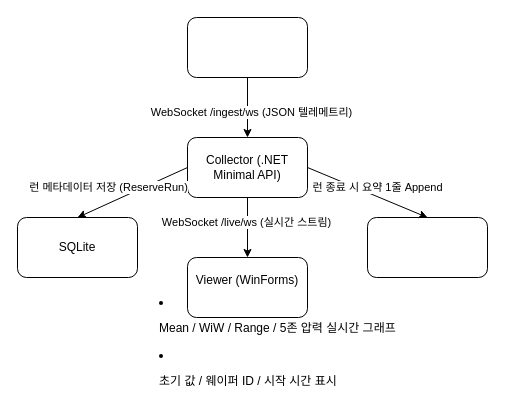
Some shapes in this 505 by 418 pixel diagram are drawn without their labels. The shapes that lost their labels are listed below. From the top down, each one's centre as x and y in pixels, then its label:
At point 247,47: "Unity CMP Simulator (Telemetry Sender)".
At point 427,247: "CSV".
